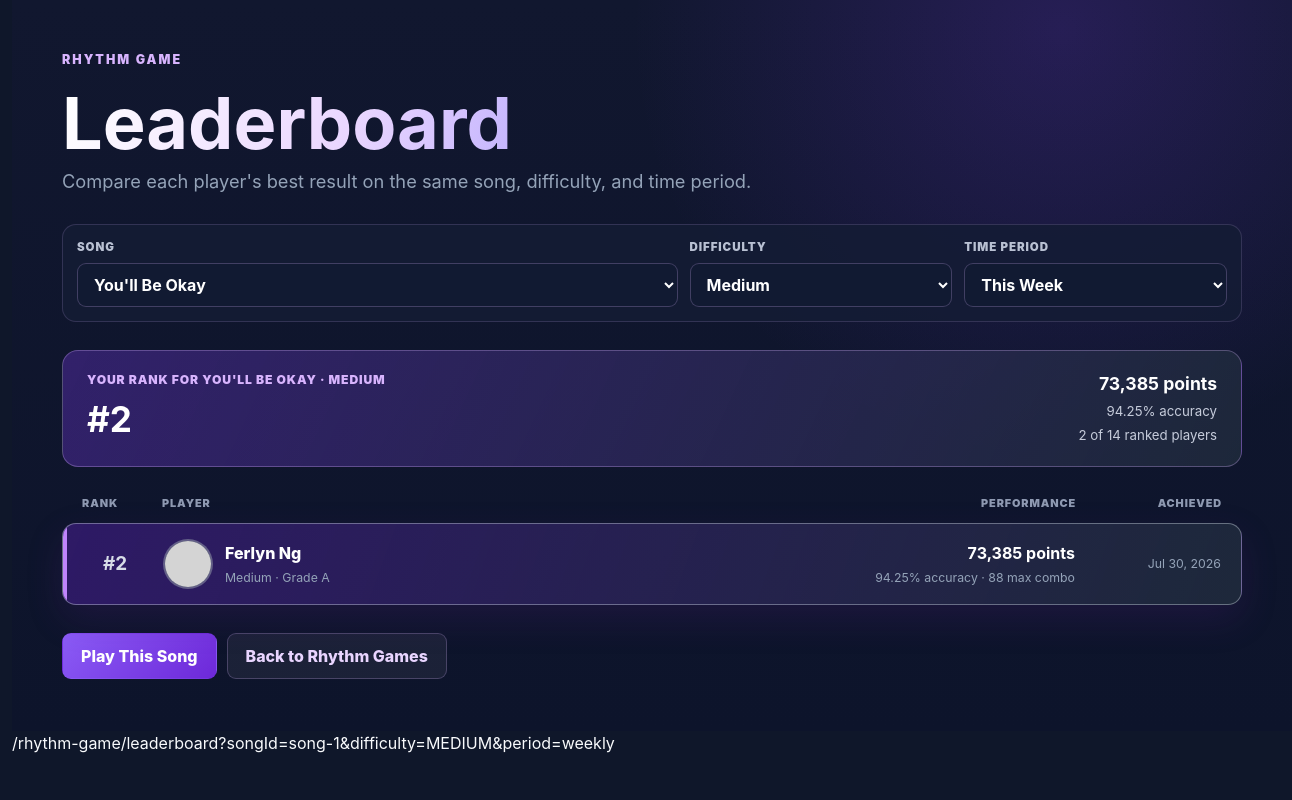
Test: RhythmLeaderboard › uses backend positions and preserves song, difficulty, and period filters in the URL
The width and height of the screenshot is (1292, 800).
Expected: the text "Your Rank for You'll Be Okay · Medium" is shown, [87,372,386,387]
Expected: the text "#2" below "Your Rank for" is shown, [87,398,132,440]
Select "This Month" in the dropdown labelled "Time period" at (1096, 285), box [964,263,1227,307]
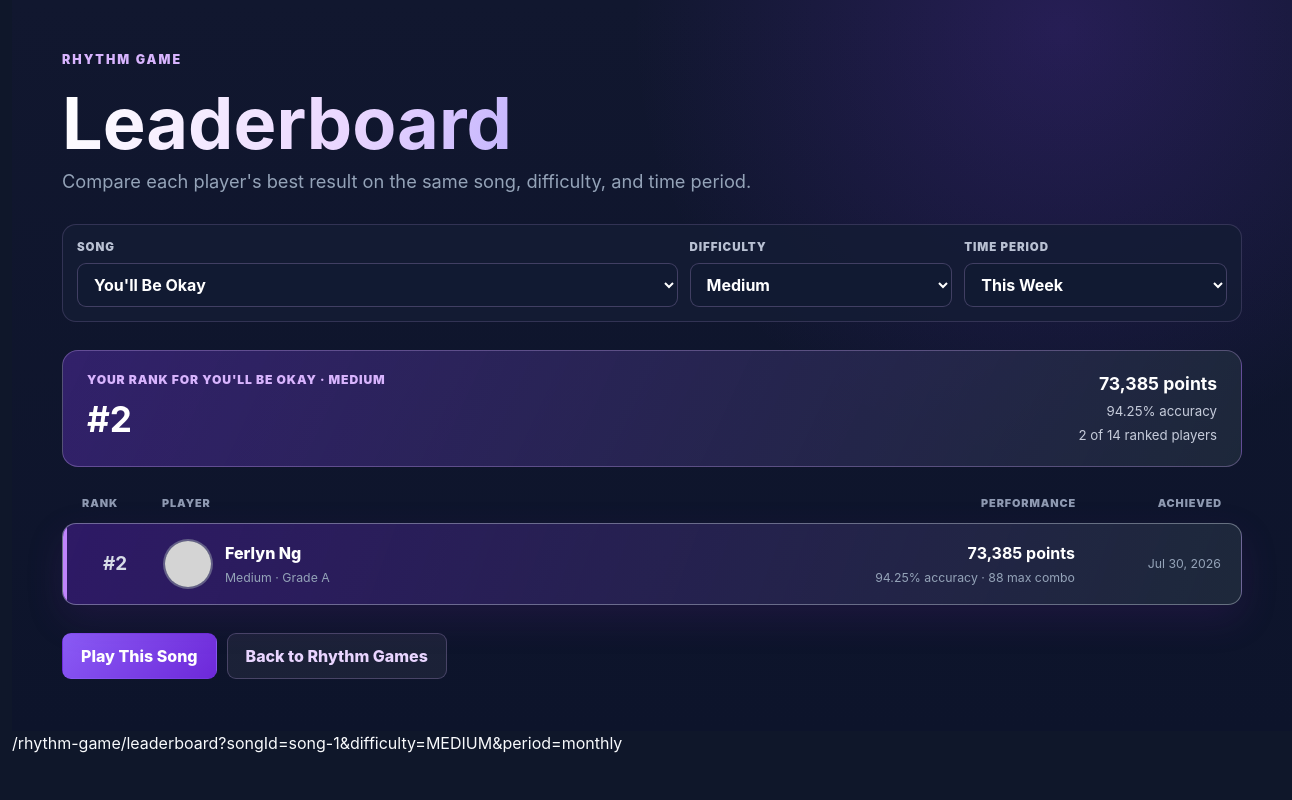
Now the text with test id "location" shows "songId=song-1&difficulty=MEDIUM&period=monthly", box [218,733,622,753]
Select "Home" in the dropdown labelled "Song" at (377, 285), box [77,263,678,307]
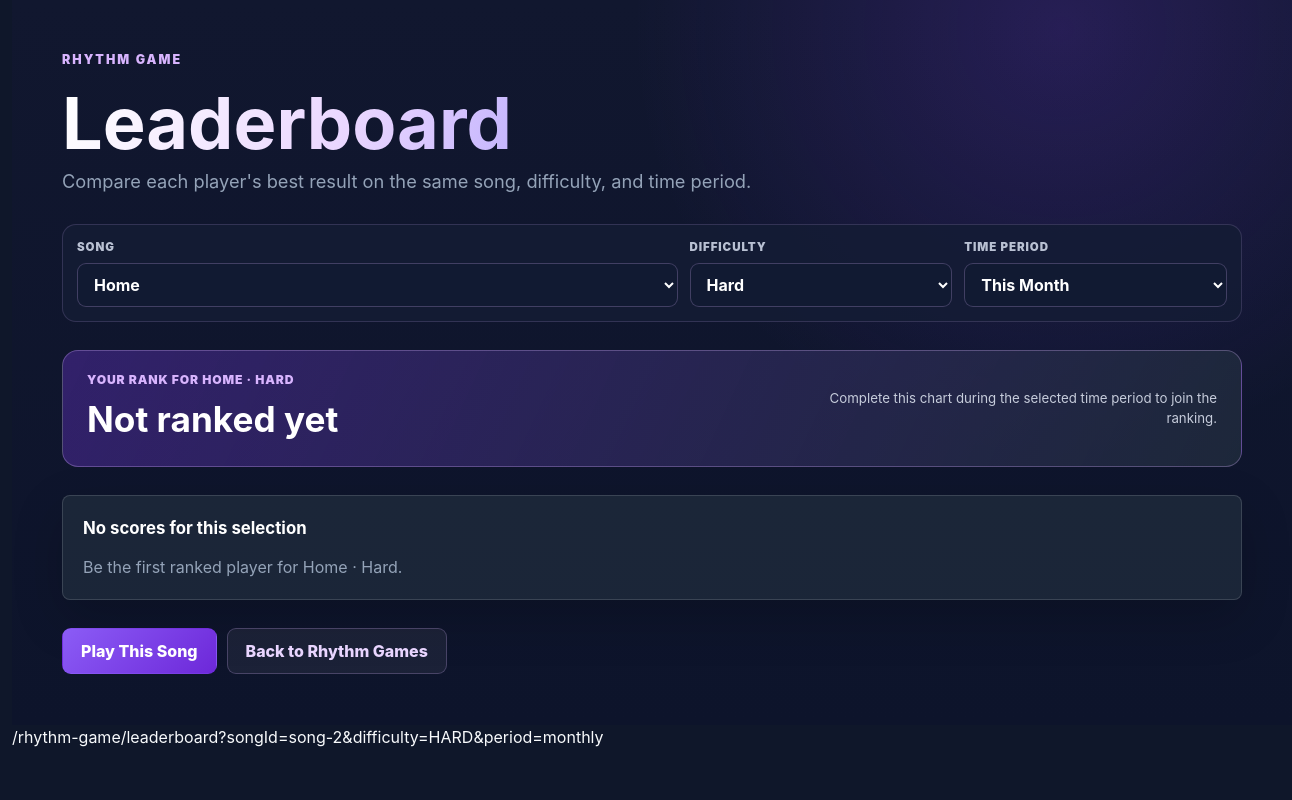
Now the text with test id "location" shows "songId=song-2&difficulty=HARD&period=monthly", box [218,728,604,748]
Now the text "No scores for this selection" is shown, box [83,518,307,538]
